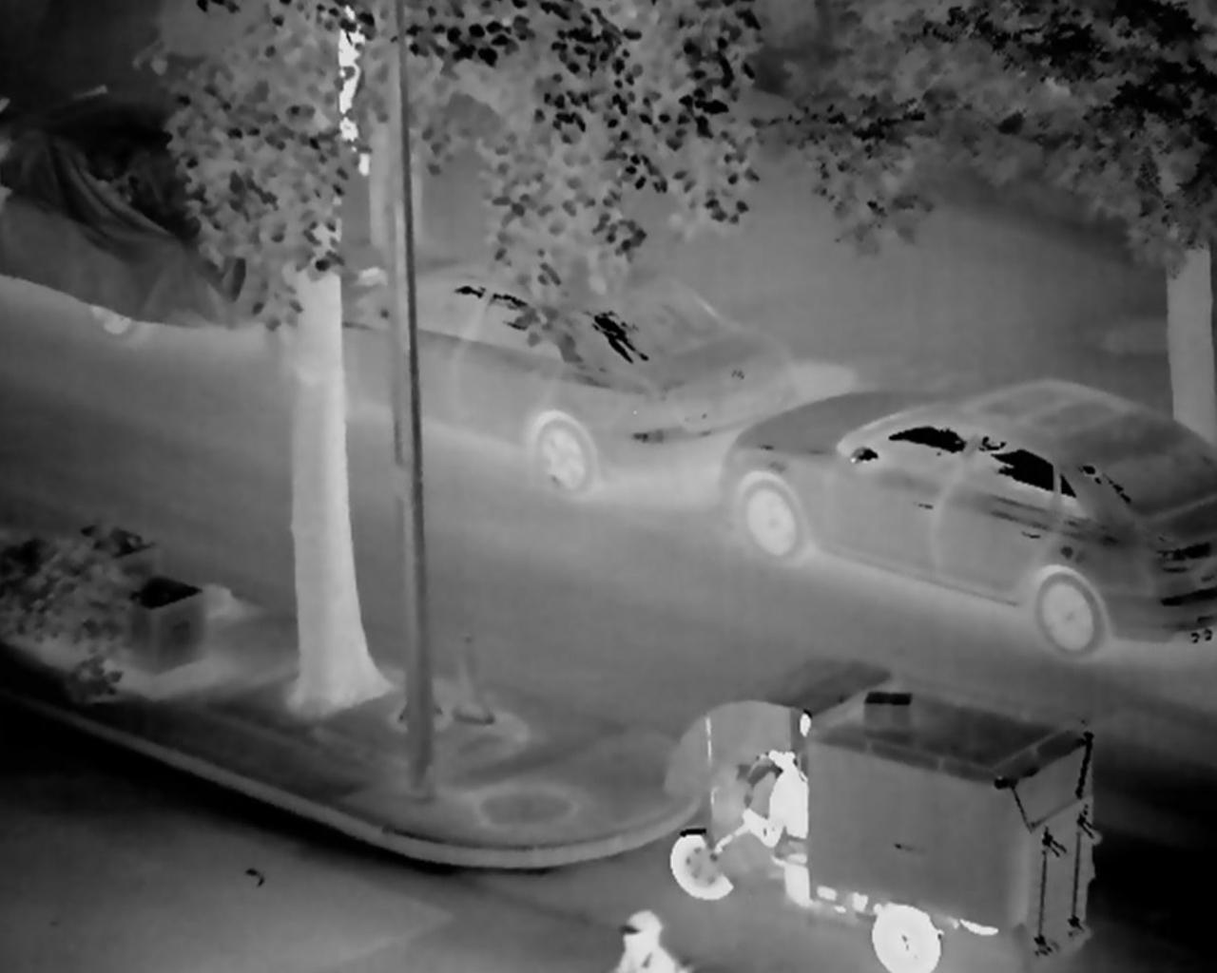person: (734, 739, 806, 849), (609, 903, 693, 973)
